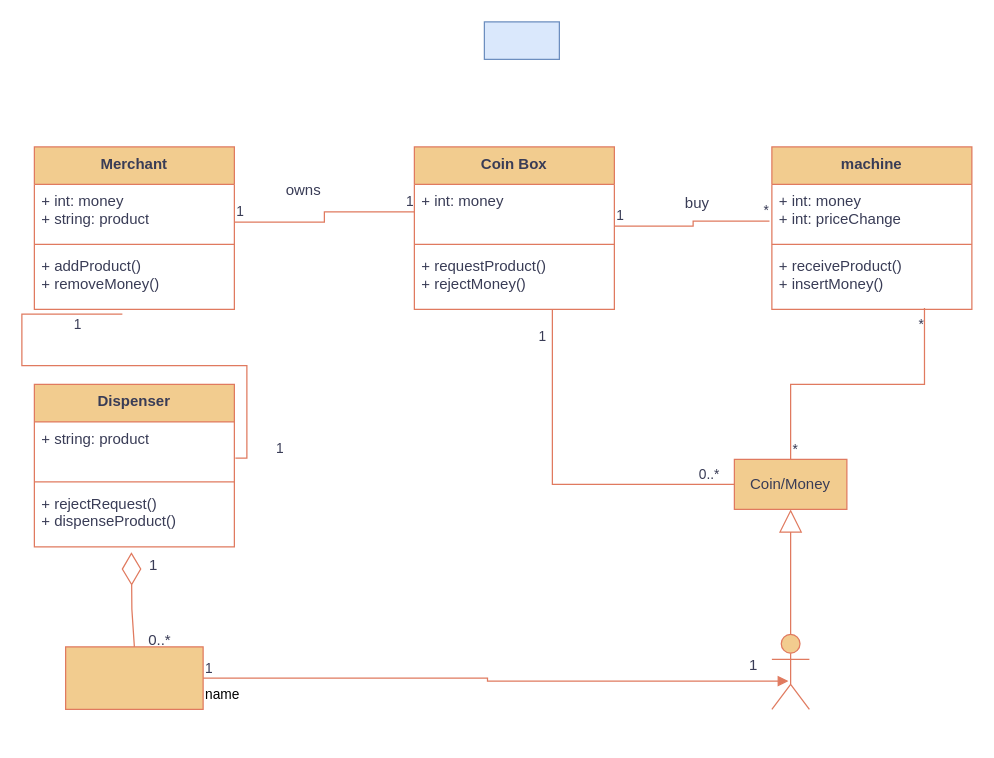
The diagram is 994 pixels wide and 758 high, and some of its shapes have lost their labels. Here are the shapes that lost their labels. From the top down, the centre of each, then its label:
At point 521,40: "LilFood".
At point 133,677: "Product".
At point 790,671: "Actor".
